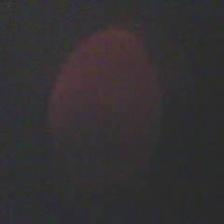fertile: (48, 26, 162, 192)
